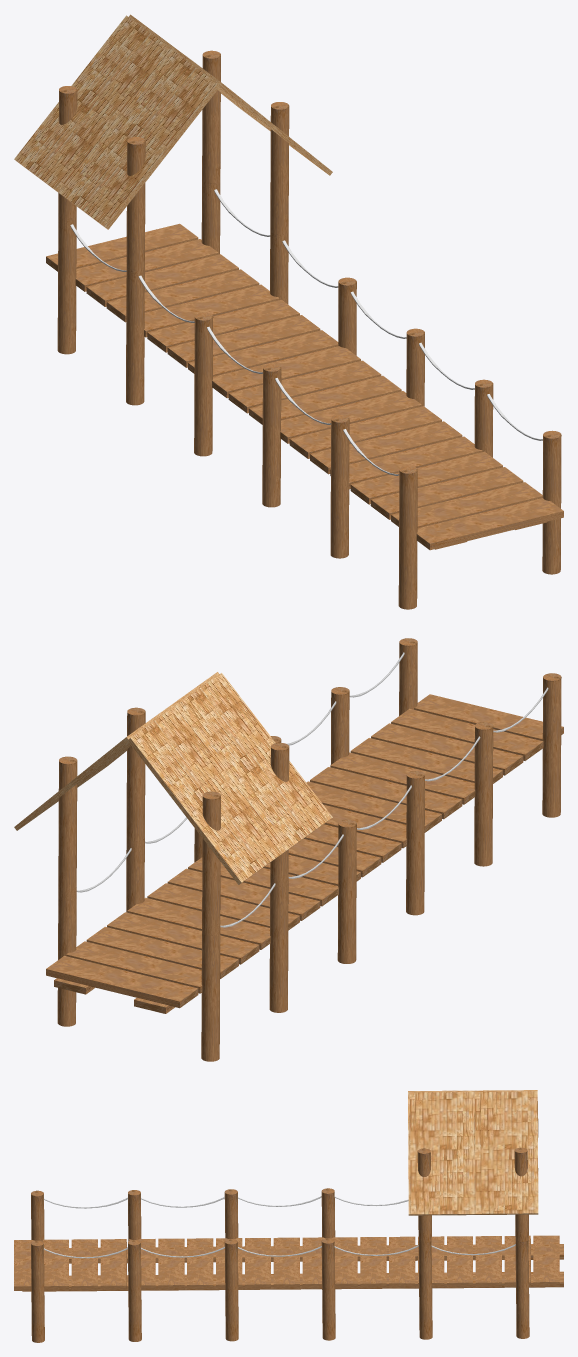
The model's file is simple_wooden_pier_or_dock.glb.
The picture shows the model from 3 angles, top to bottom: view 1: azimuth 30°, elevation 25°; view 2: azimuth 150°, elevation 25°; view 3: azimuth 270°, elevation 25°; orthographic projection. The views are drawn at different scales.
Visible parts, largest first — view 1: Cube.001_Baked, Cylinder.002_Baked, Cube.002_Baked, Cylinder.001_Baked; view 2: Cube.001_Baked, Cylinder.002_Baked, Cube.002_Baked, Cylinder.001_Baked, Cube.003_Baked; view 3: Cube.001_Baked, Cube.002_Baked, Cylinder.002_Baked, Cube.003_Baked, Cylinder.001_Baked.
Boxes of the visible parts, <box> form: Cube.001_Baked: <box>46,223,563,550</box>; Cylinder.002_Baked: <box>57,50,561,609</box>; Cube.002_Baked: <box>14,14,332,229</box>; Cylinder.001_Baked: <box>70,189,542,475</box>; Cube.001_Baked: <box>46,694,563,1008</box>; Cylinder.002_Baked: <box>57,638,561,1061</box>; Cube.002_Baked: <box>14,672,332,884</box>; Cylinder.001_Baked: <box>76,652,548,927</box>; Cube.003_Baked: <box>54,978,174,1013</box>; Cube.001_Baked: <box>14,1235,559,1290</box>; Cube.002_Baked: <box>408,1090,538,1215</box>; Cylinder.002_Baked: <box>31,1147,529,1342</box>; Cube.003_Baked: <box>22,1244,563,1291</box>; Cylinder.001_Baked: <box>44,1196,515,1258</box>.
Size of the model in its own units: 8.25 by 10.94 by 24.28.
Materials: 5 (4 with a texture image).
